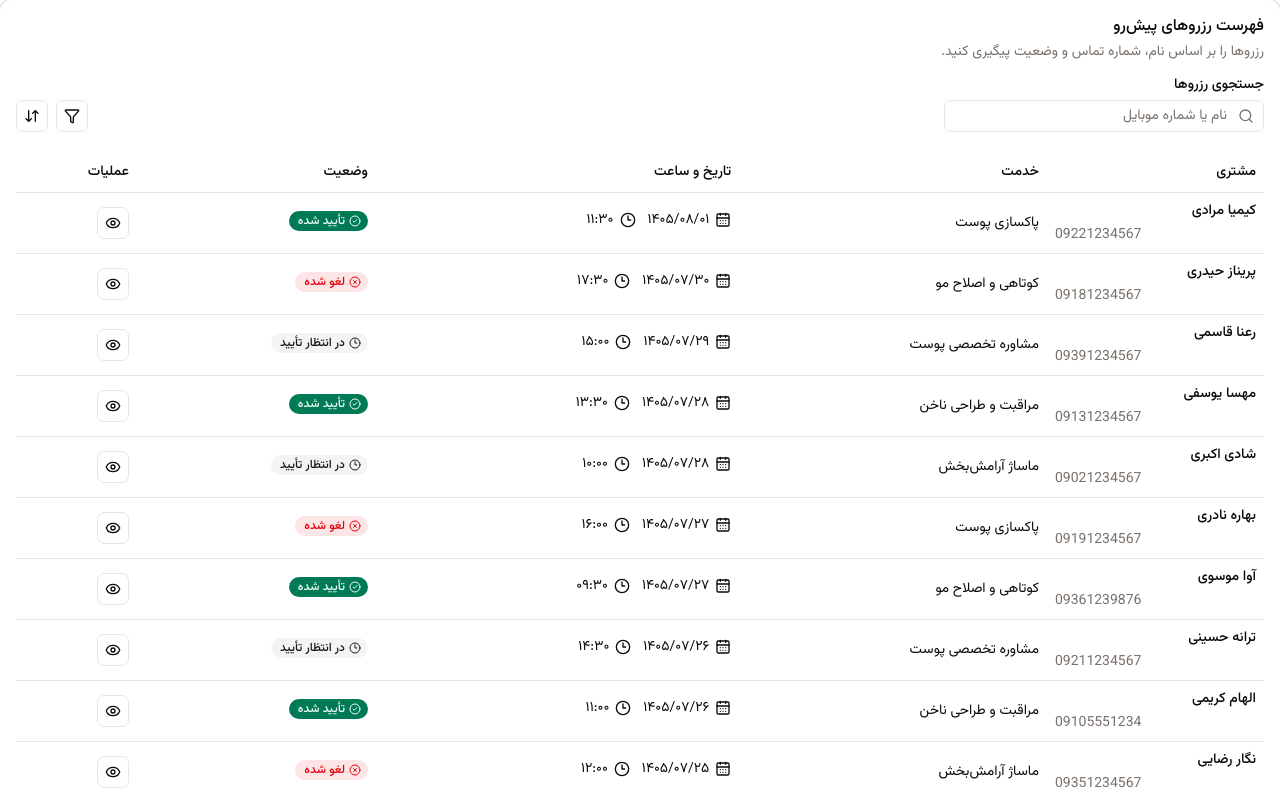
it: Reservation details and status actions › confirms a pending reservation and exposes its updated status
What coordinates should you click on to do the following:
click the button named "مشاهده جزئیات" in the row of "ترانه حسینی"
I would click on:
 (113, 650)
Its box is [97, 634, 129, 666].
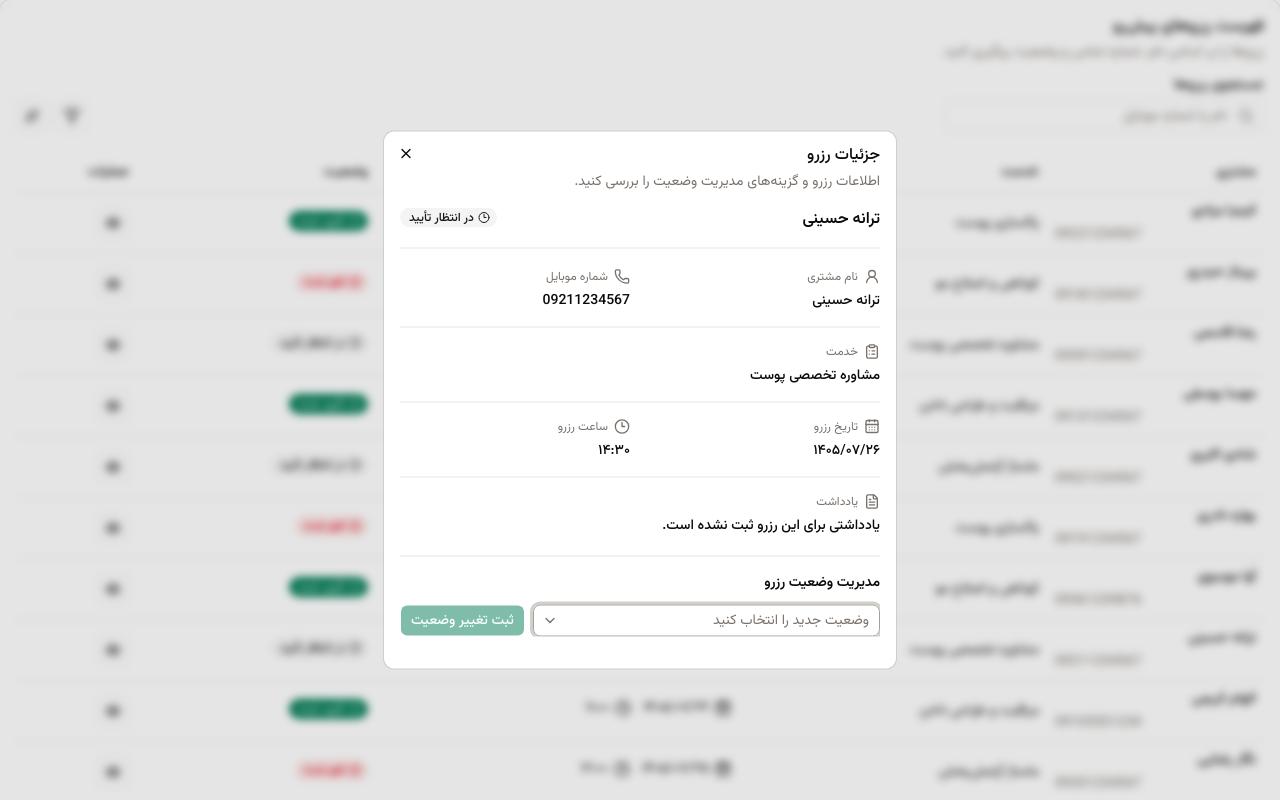
What coordinates should you click on to do the following:
click the dropdown labelled "وضعیت جدید"
I would click on:
 (791, 620)
Its box is [533, 604, 880, 636].
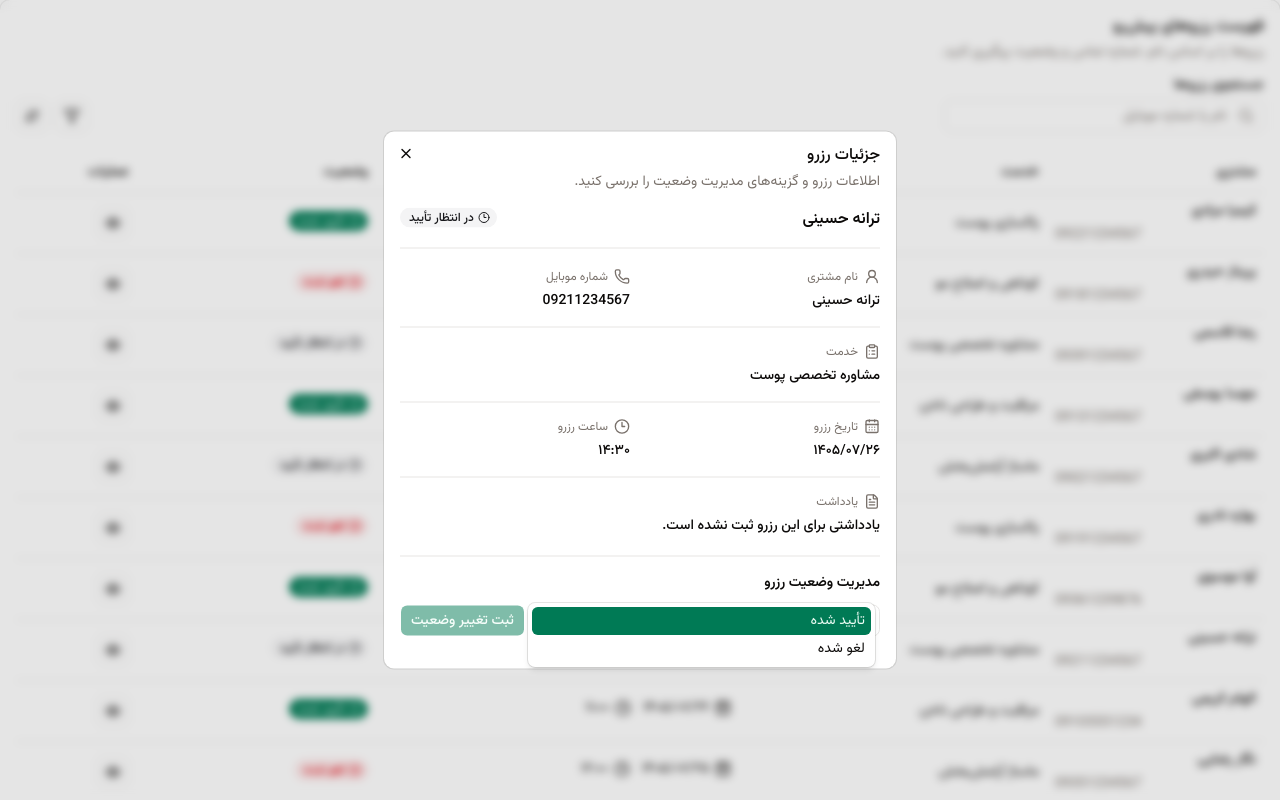
What coordinates should you click on to do the following:
click the option "تأیید شده"
I would click on:
 (838, 620)
Its box is [532, 606, 871, 634].
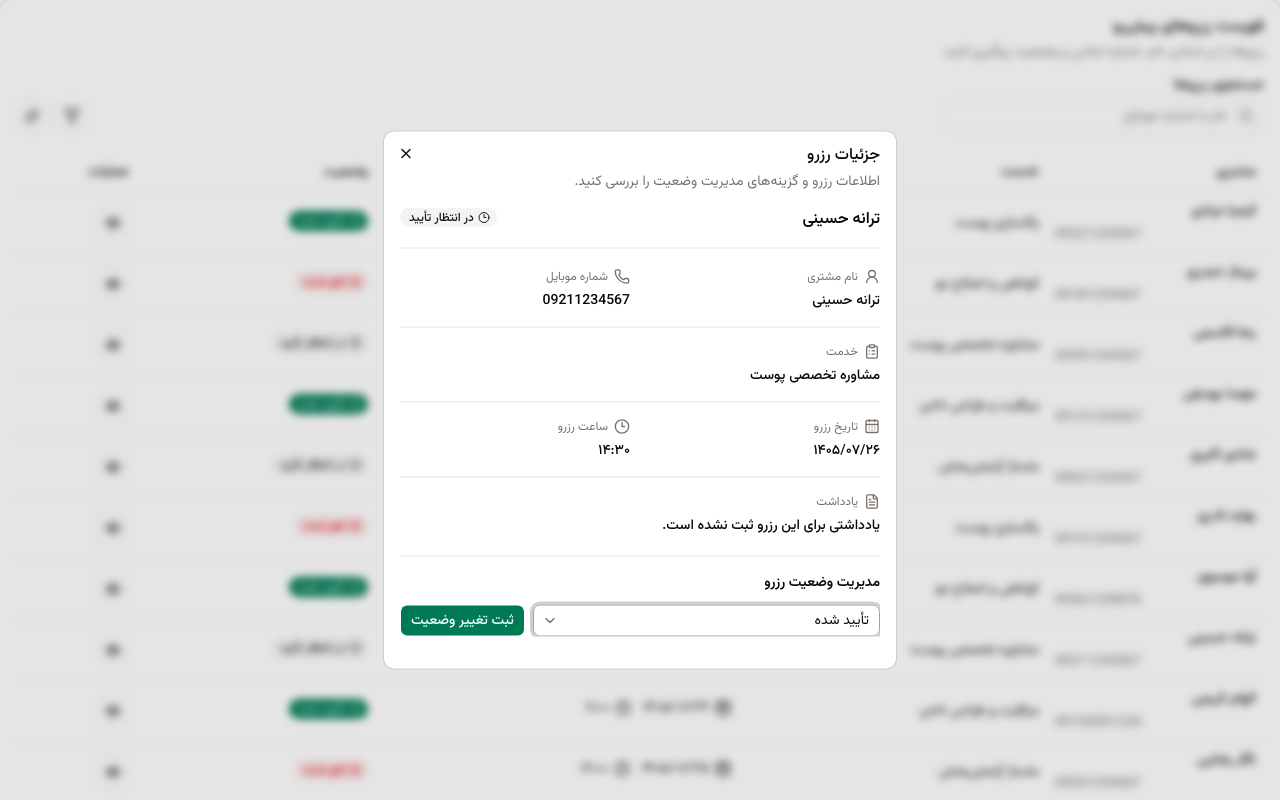
expect the dropdown named "وضعیت جدید" shows "تأیید شده": met, box [533, 604, 880, 636]
What coordinates should you click on to do the following:
click the button "ثبت تغییر وضعیت"
I would click on:
 (462, 620)
Its box is [400, 604, 525, 636].
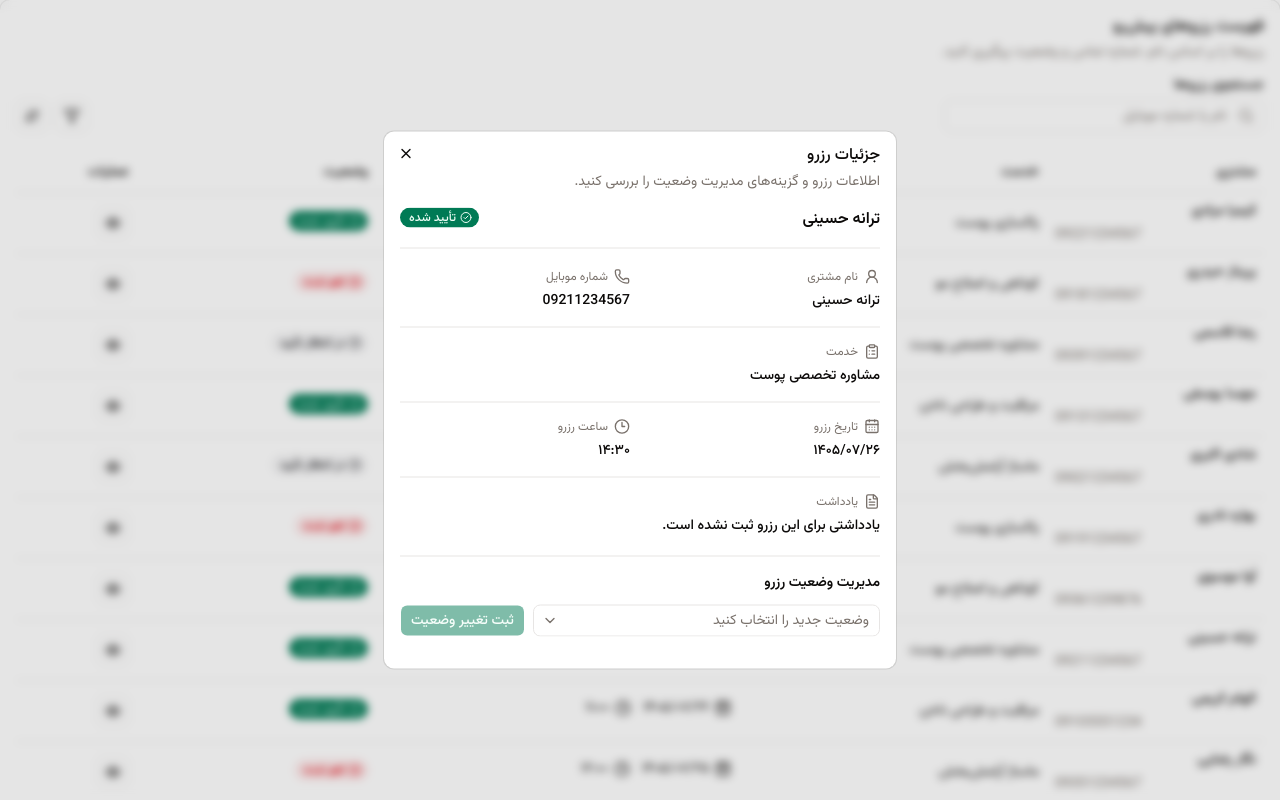
expect the text "تأیید شده" is shown: met, box [400, 208, 479, 228]
